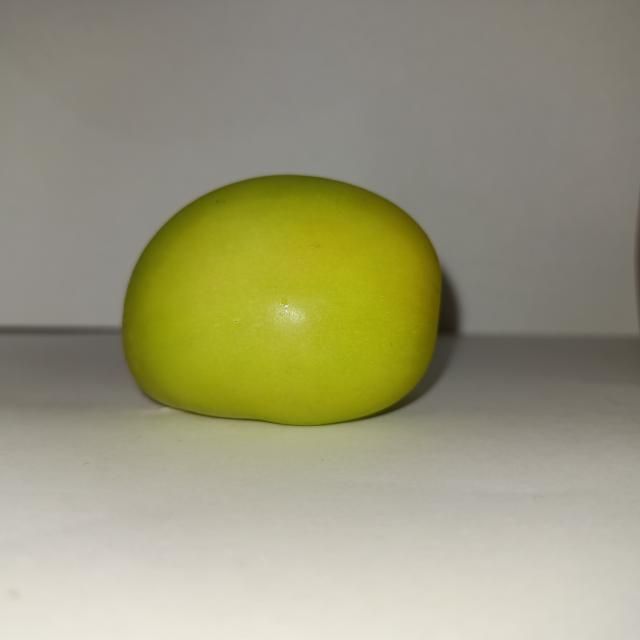Red: (120, 171, 443, 426)
